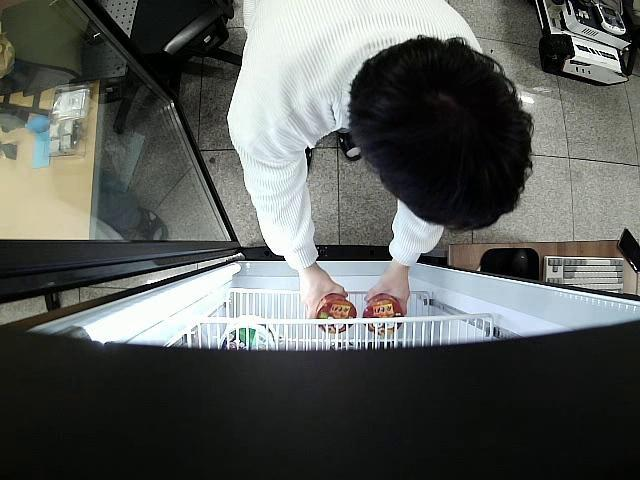06_nuguri_S: (363, 295, 404, 336), (317, 293, 356, 334)
